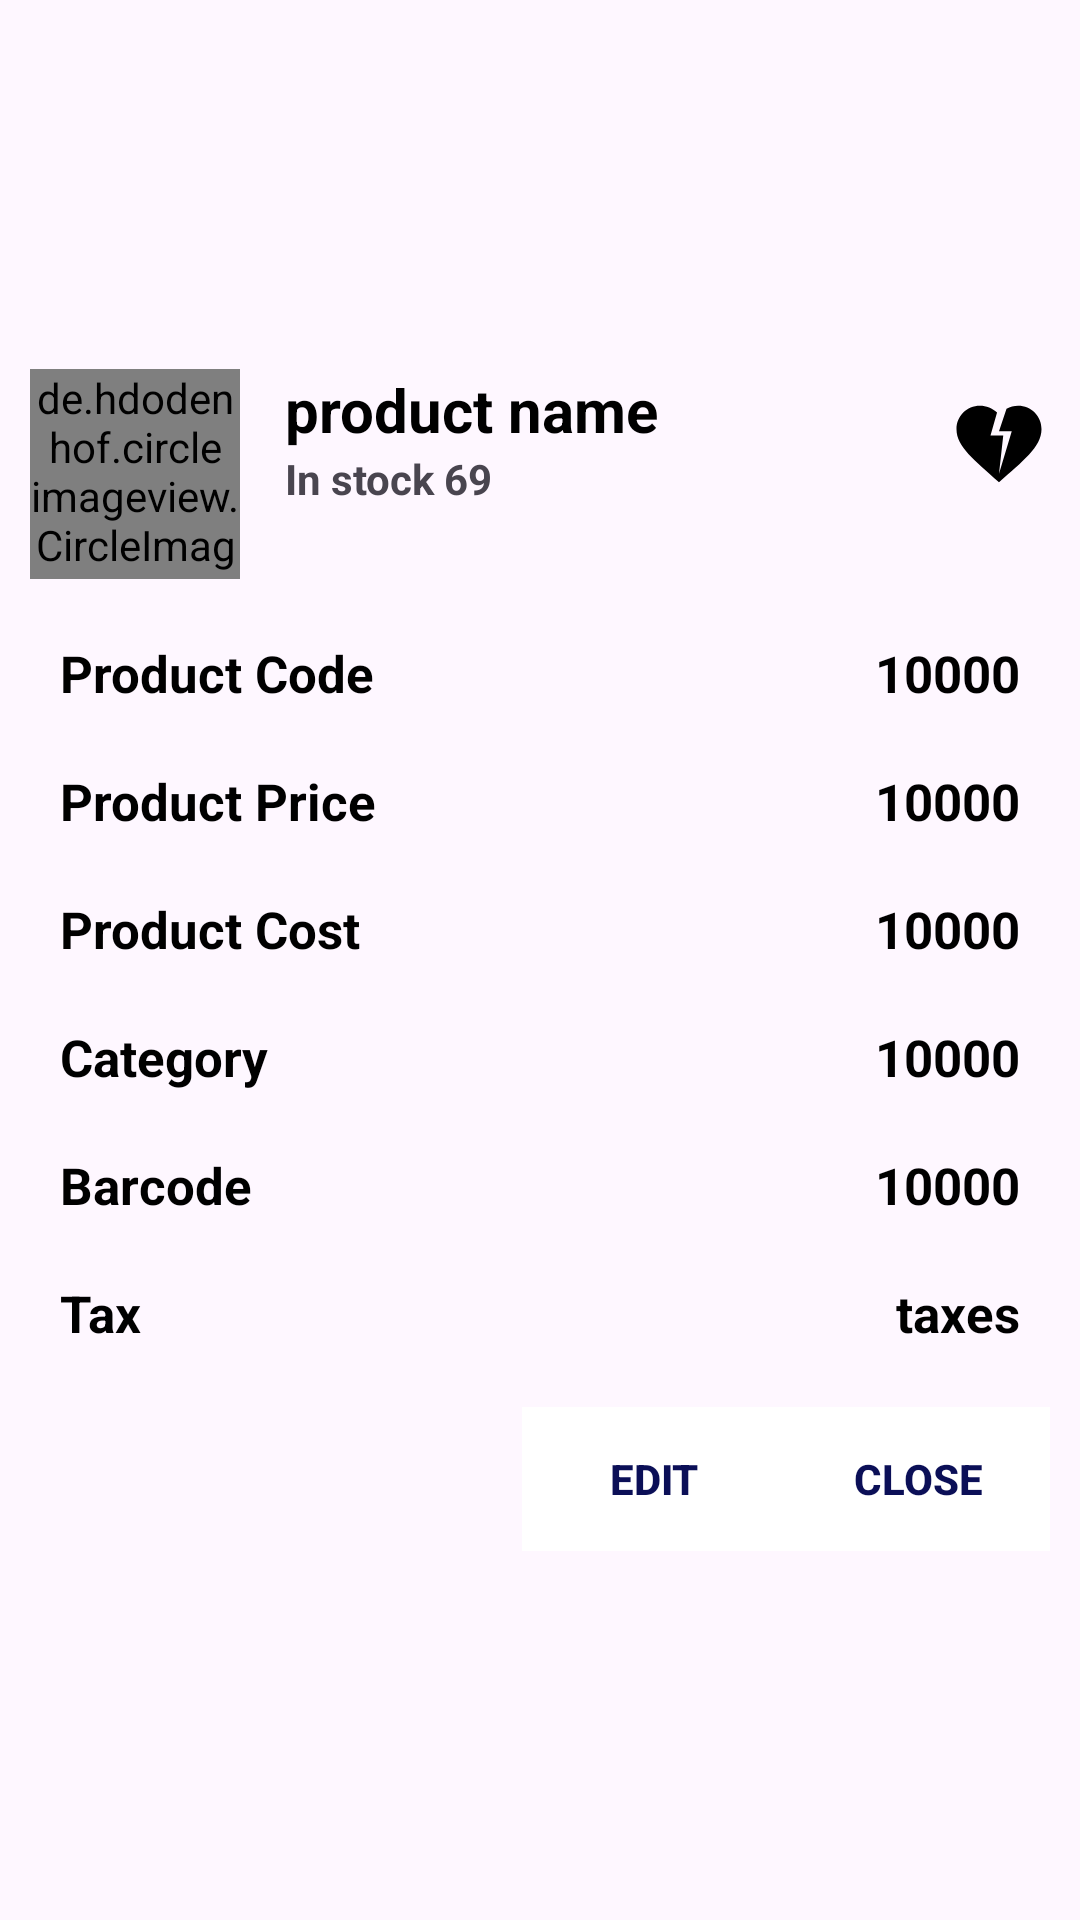

Where icons sit on this 1080 x 1920 app screen, as (x1, y1, x2, y2):
heart broken: (956, 405, 1042, 482)
